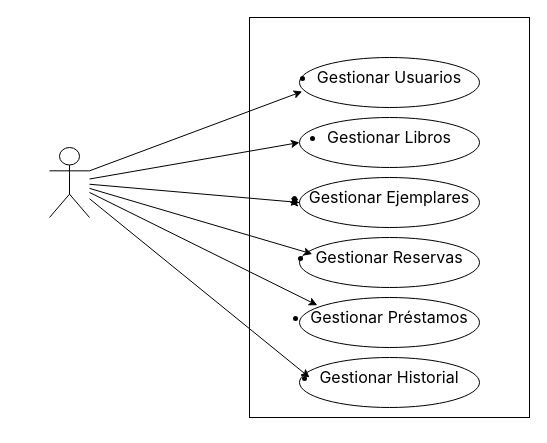
The diagram is 547 pixels wide and 443 high, and some of its shapes have lost their labels. The box of each missing label's shape, as (x1, y1, x2, y2) in pixels:
Sistema de Biblioteca .: (248, 16, 530, 418)
Usuario del sistema: (48, 146, 90, 218)
